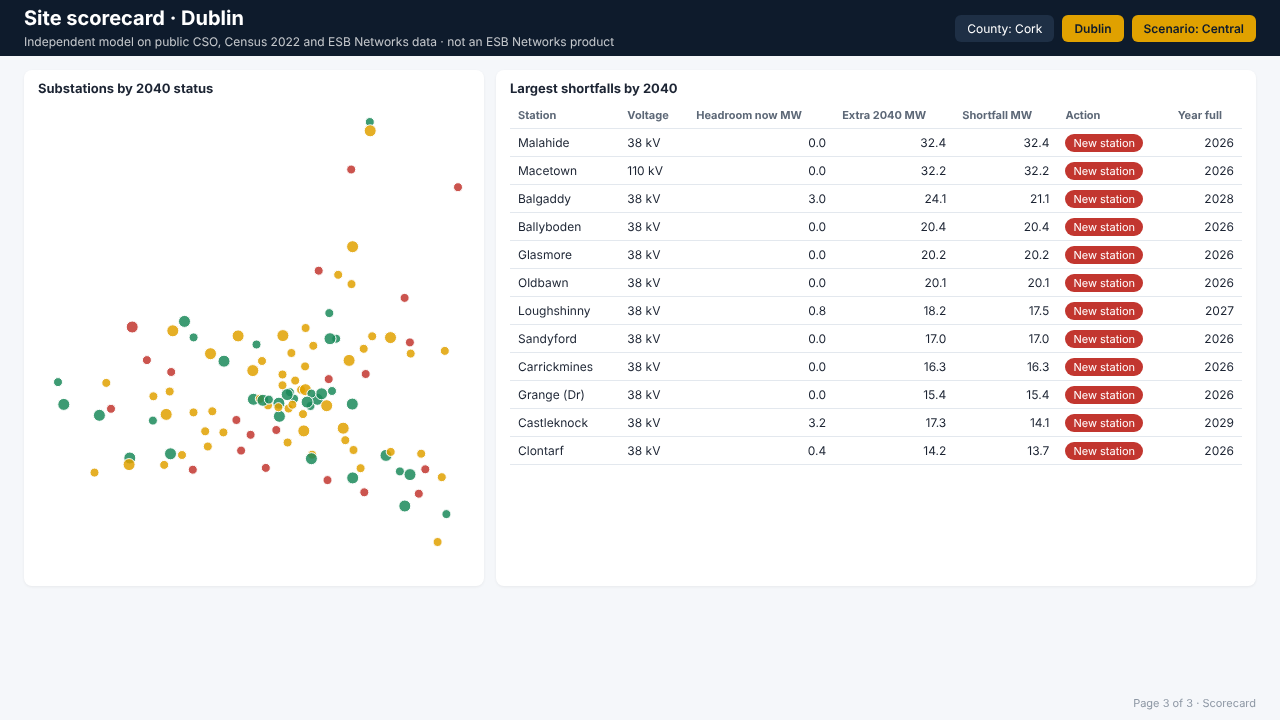

Layout of this report page (visuals, bound fields, positions):
{"tool":"powerbi","page":{"name":"Scorecard","canvas":[1280,720],"ordinal":2},"visuals":[{"type":"textbox","box":[20,8,720,76],"z":1000},{"type":"slicer","fields":{"Values":["dim_county.County"]},"box":[760,14,230,62],"z":2000},{"type":"slicer","fields":{"Values":["dim_station.Action2040"]},"box":[999.7,7.6,260.8,75.6],"z":3000},{"type":"scatterChart","title":"Where the short stations are (bubble = 2040 shortfall)","fields":{"Category":["dim_station.Station"],"Series":["dim_station.Status2040"],"Size":["_Measures.Shortfall 2040 MW"],"X":["Avg(dim_station.Longitude)"],"Y":["Avg(dim_station.Latitude)"]},"box":[20,92,520,608],"z":4000},{"type":"tableEx","title":"Station scorecard (sorted by shortfall)","fields":{"Values":["dim_station.Station","dim_station.VoltageKV","dim_station.HeadroomNowMW","dim_station.Extra2040MW","dim_station.Shortfall2040MW","dim_station.Action2040","dim_station.YearFull"]},"box":[555,92,705,608],"z":5000}]}

Visuals, with their boxes in screenshot pixels (x1, y1, x2, y2), scaled from the page's 1280x720 canvas onto the 1280x720 screenshot:
textbox: 20,8,740,84
slicer - dim_county.County: 760,14,990,76
slicer - dim_station.Action2040: 1000,8,1260,83
"Where the short stations are (bubble = 2040 shortfall)" scatterChart: 20,92,540,700
"Station scorecard (sorted by shortfall)" tableEx: 555,92,1260,700
